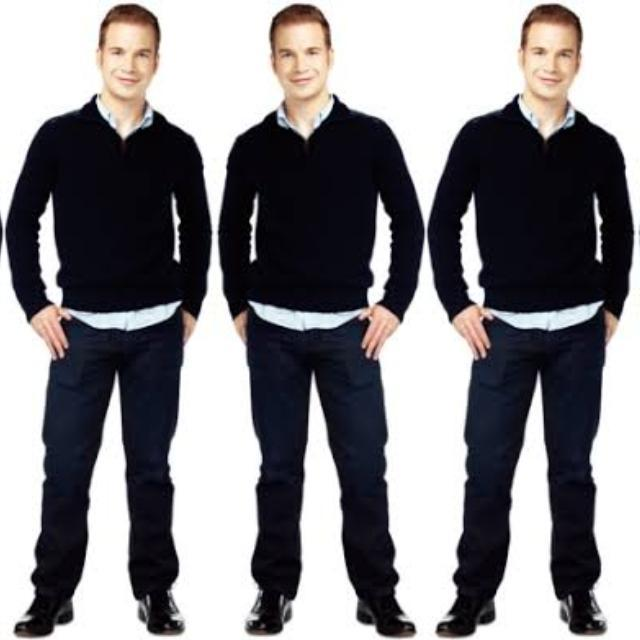person: (224, 2, 426, 640), (2, 2, 204, 640), (426, 2, 626, 640), (218, 2, 426, 354), (2, 2, 210, 354), (424, 2, 632, 354), (250, 10, 358, 142), (70, 10, 178, 142), (492, 10, 600, 142), (0, 2, 2, 640), (0, 1, 3, 354)
